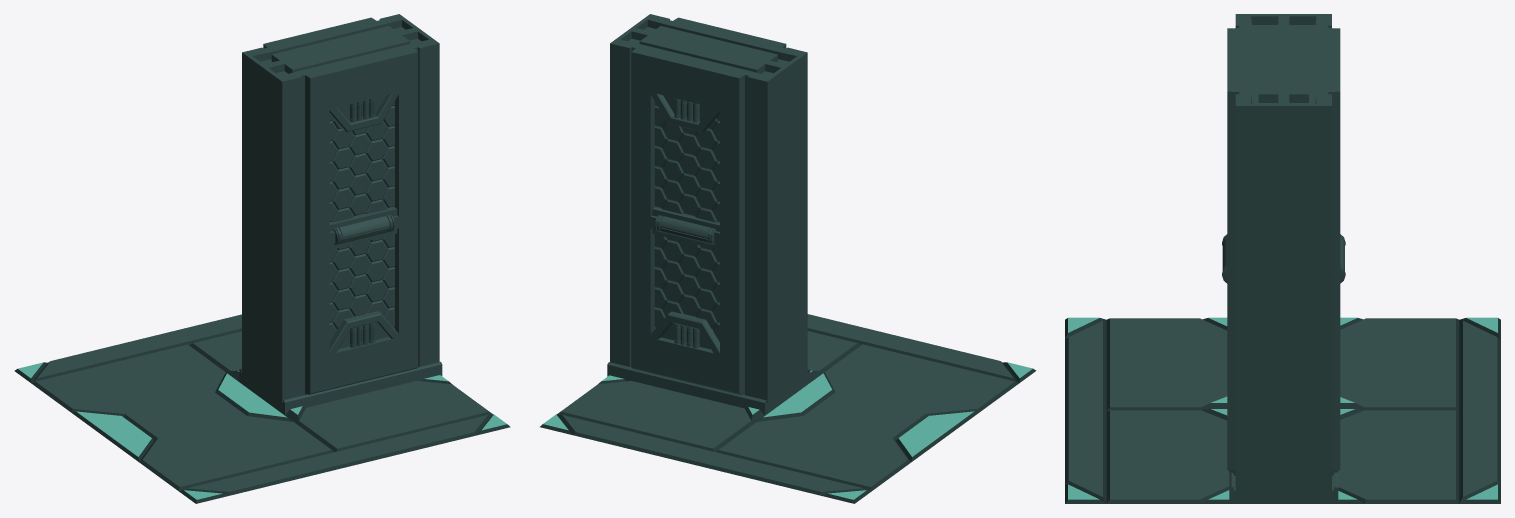
The model's file is Walls_Stump_Var02.fbx.
3 views of the same model, side by side, from view 1: azimuth 30°, elevation 25°; view 2: azimuth 150°, elevation 25°; view 3: azimuth 270°, elevation 25° (orthographic). The views are drawn at different scales.
Visible parts, largest first — view 1: Walls_Stump_Var02; view 2: Walls_Stump_Var02; view 3: Walls_Stump_Var02.
Part boxes in pixels (box(x1,y1,x2,y2)): Walls_Stump_Var02: box(14, 14, 510, 503); Walls_Stump_Var02: box(540, 14, 1036, 503); Walls_Stump_Var02: box(1065, 14, 1500, 503).
Size of the model in its own units: 600 by 604 by 600.
